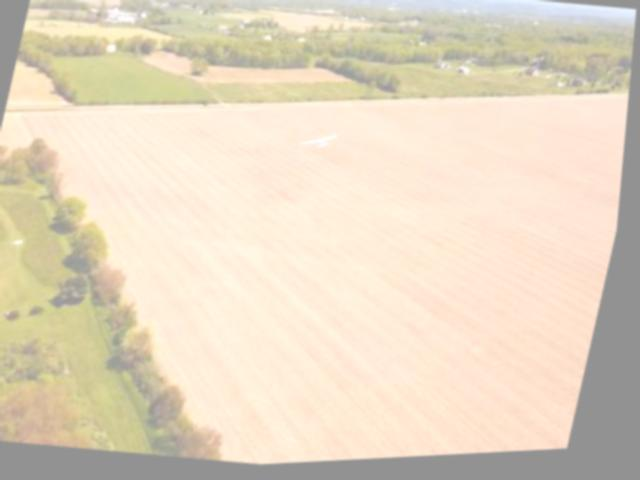uav: (295, 121, 348, 168)
